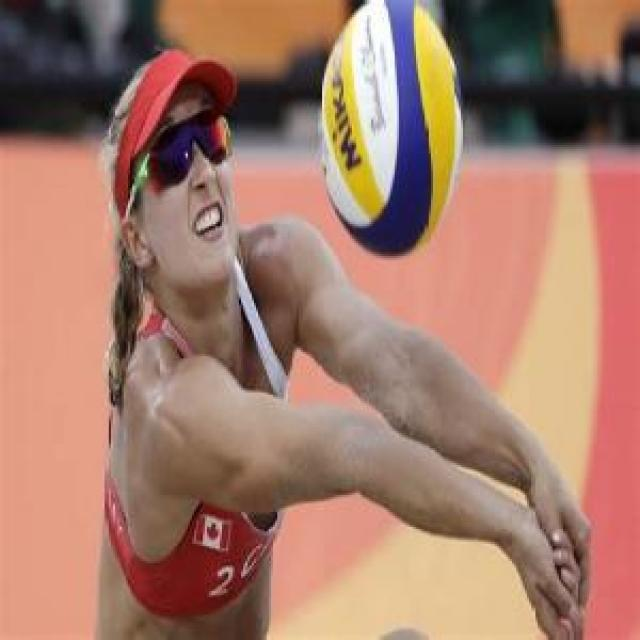volleyball: (318, 1, 463, 261)
